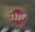stop: (8, 6, 29, 27)
